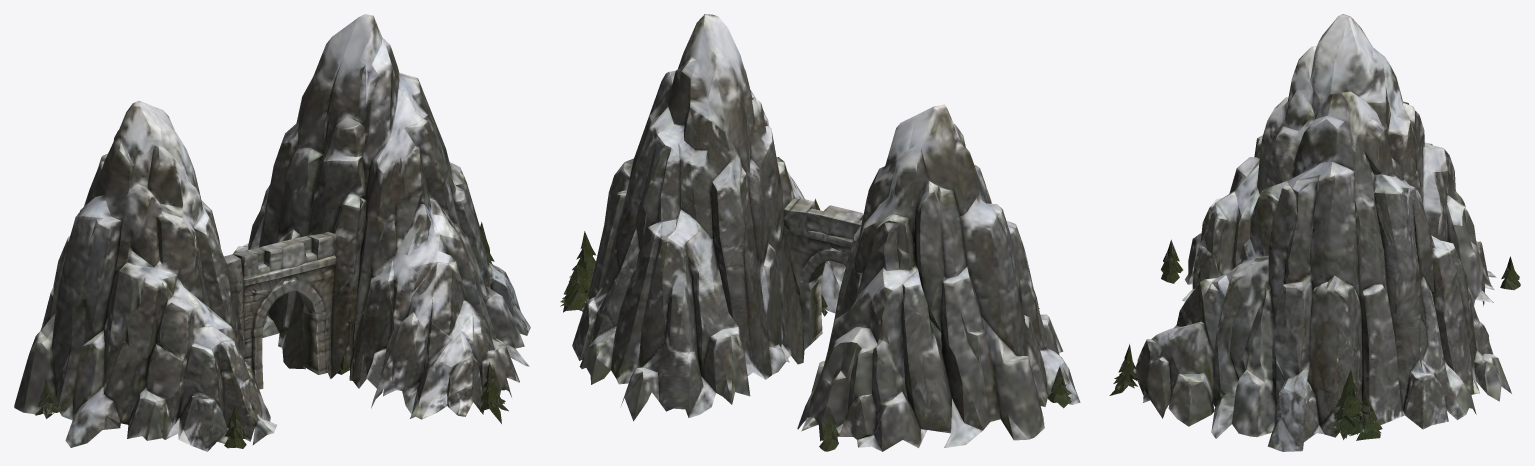
File: pass.glb
3 renders of one model, left to right at view 1: azimuth 30°, elevation 25°; view 2: azimuth 150°, elevation 25°; view 3: azimuth 270°, elevation 25°, orthographic. The views are drawn at different scales.
Bounding box in the file's own units: 2.1 × 1.38 × 1.66.
Materials: 1 (1 with a texture image).
